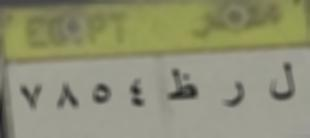4: (127, 73, 147, 111)
5: (90, 80, 116, 110)
8: (50, 78, 80, 117), (17, 80, 44, 117)
Thaa: (158, 62, 200, 106)
laam: (266, 58, 301, 105)
raa: (220, 79, 247, 114)
